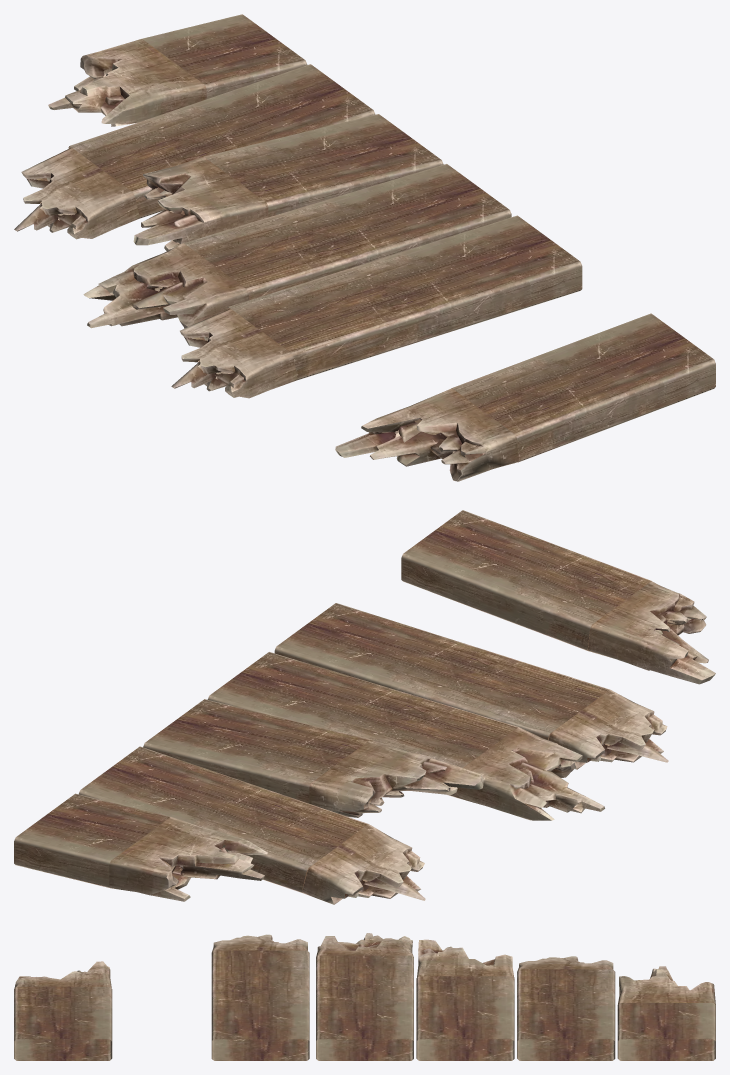
3 renders of one model, top to bottom at view 1: azimuth 30°, elevation 25°; view 2: azimuth 150°, elevation 25°; view 3: azimuth 270°, elevation 25°, orthographic. The views are drawn at different scales.
Parts seen in each view (by area): view 1: SM_BrokenWood_04_LOD0; view 2: SM_BrokenWood_04_LOD0; view 3: SM_BrokenWood_04_LOD0.
Part boxes in pixels (x1,y1,x2,y2): SM_BrokenWood_04_LOD0: (14,14,715,481); SM_BrokenWood_04_LOD0: (14,510,715,904); SM_BrokenWood_04_LOD0: (14,933,715,1060).
Bounding box in the file's own units: 1.86 × 0.3032 × 3.95.
1 material, 1 textured.
